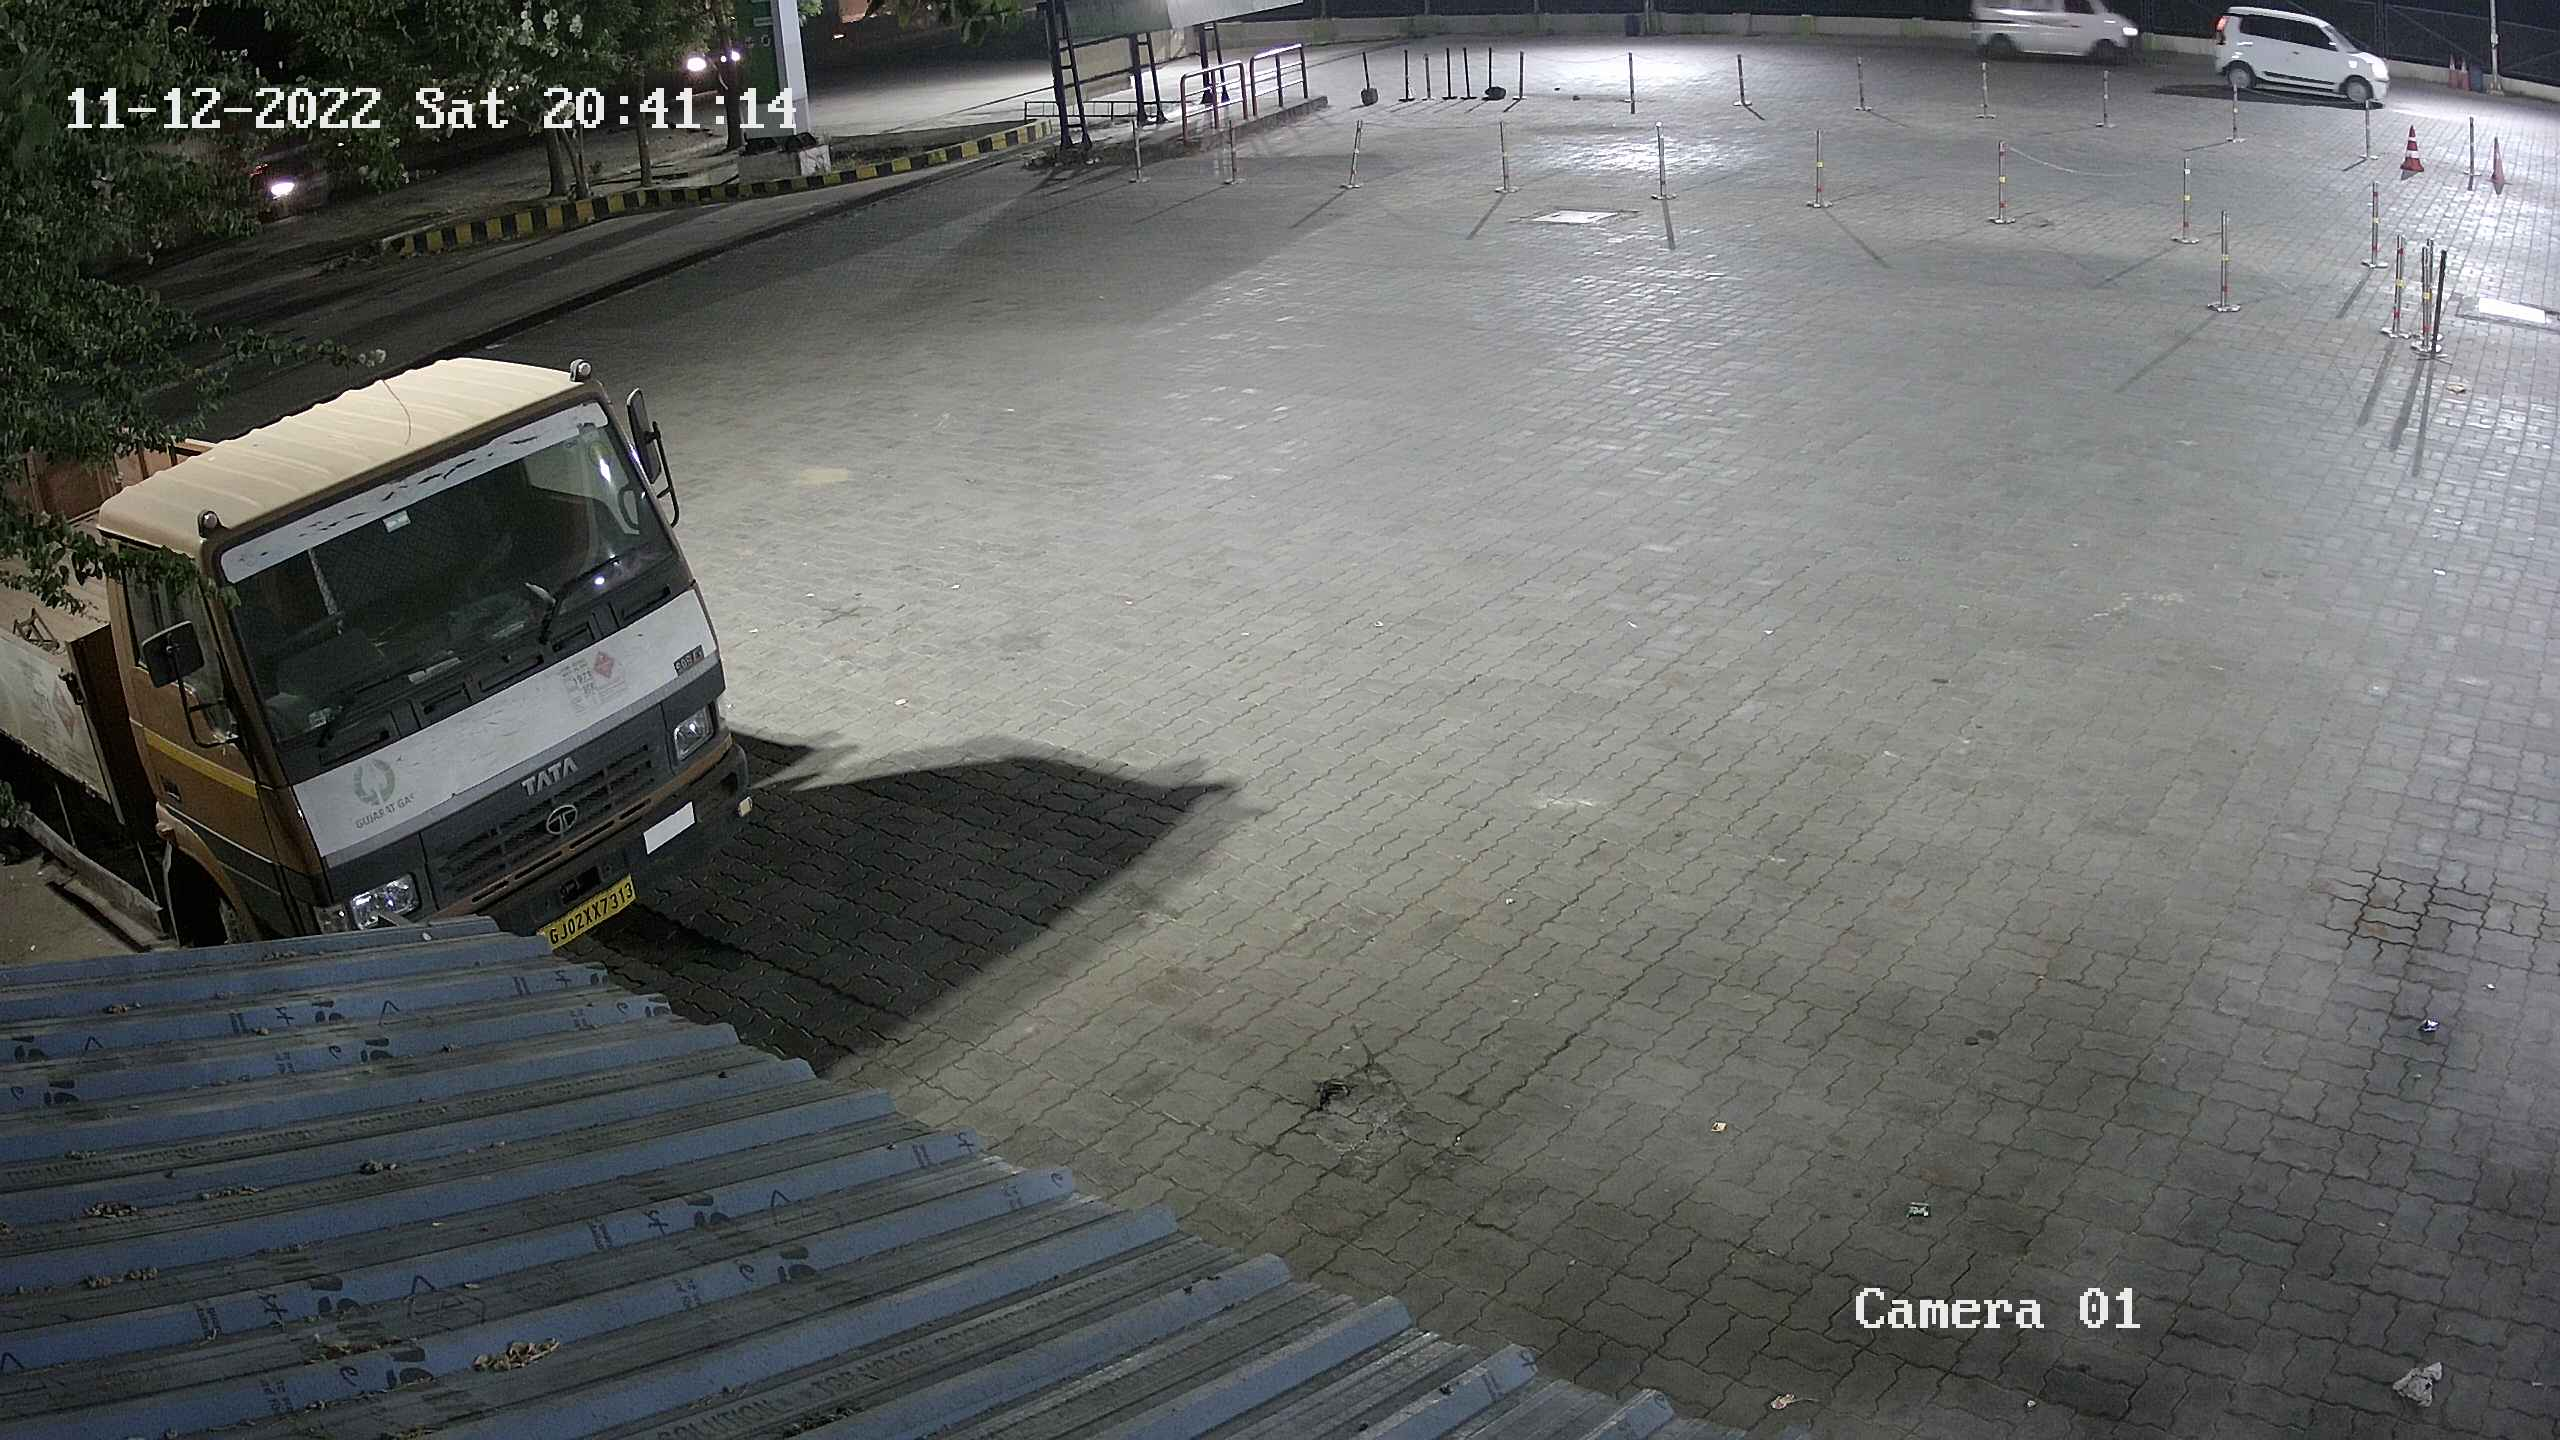Car: (2193, 0, 2398, 118), (1948, 0, 2142, 74)
HMV: (2, 325, 775, 983)
